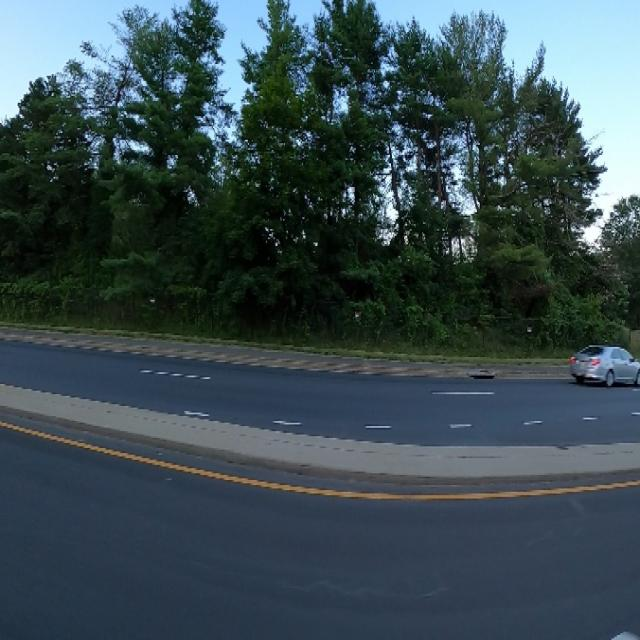cars: (563, 330, 640, 392)
